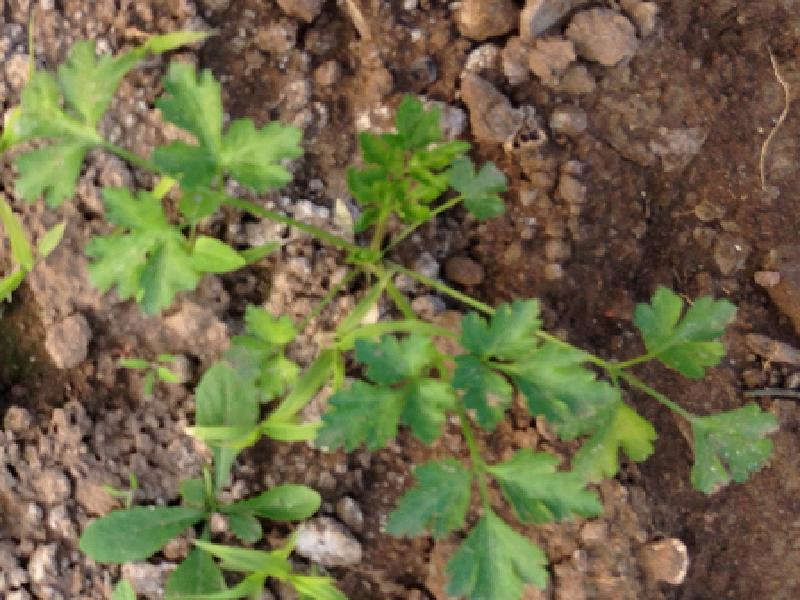radish: (20, 0, 800, 560)
